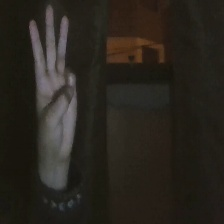W: (21, 2, 88, 167)
